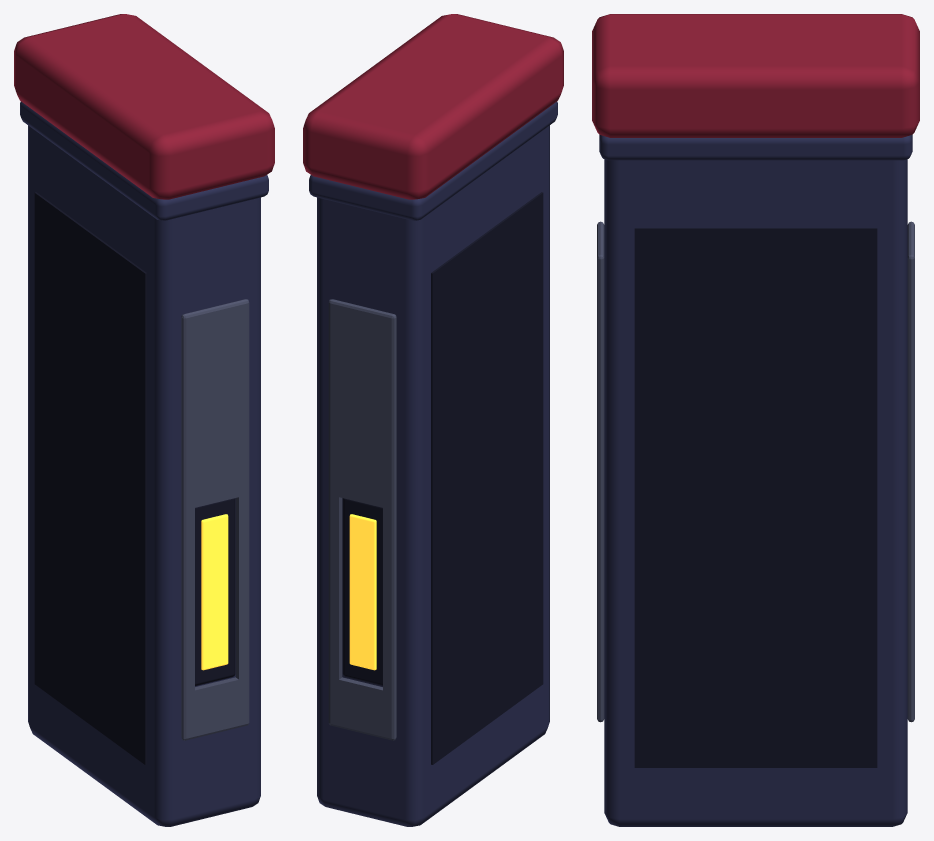
The model's file is int.post.pink.aperture.glb.
The picture shows the model from 3 angles, left to right: view 1: azimuth 30°, elevation 25°; view 2: azimuth 150°, elevation 25°; view 3: azimuth 270°, elevation 25°; orthographic projection. The views are drawn at different scales.
Visible parts, largest first — view 1: int.post.pink; view 2: int.post.pink; view 3: int.post.pink.
Part boxes in pixels (x1=…): int.post.pink: x1=14, y1=14, x2=274, y2=826; int.post.pink: x1=303, y1=14, x2=563, y2=826; int.post.pink: x1=592, y1=14, x2=919, y2=826.
Bounding box in the file's own units: 0.26 × 1.39 × 0.54.
